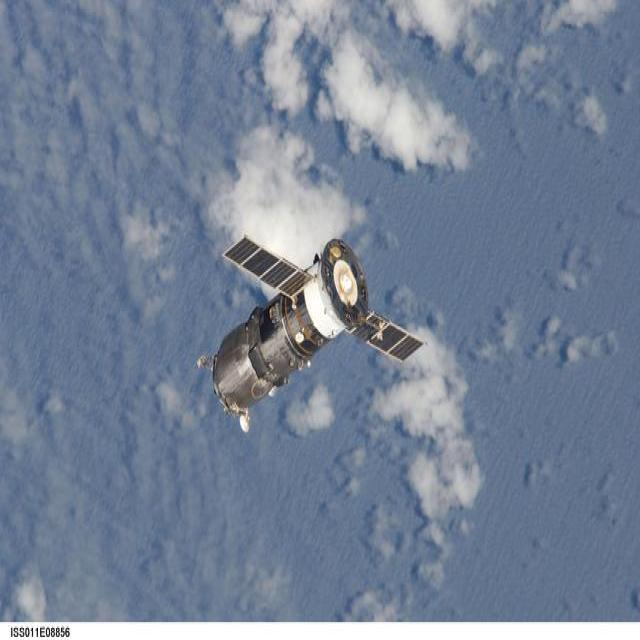medium_debris: (198, 236, 422, 431)
